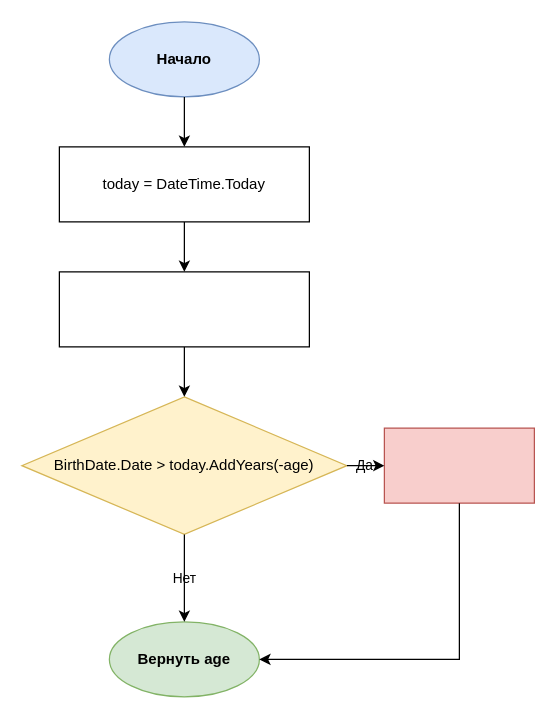
This 556x719 diagram has some shape labels left out. The centre of each missing label's shape, as x and y in pixels:
"age = today.Year - BirthDate.Year" belongs at point (183, 309).
"age--" belongs at point (458, 465).
